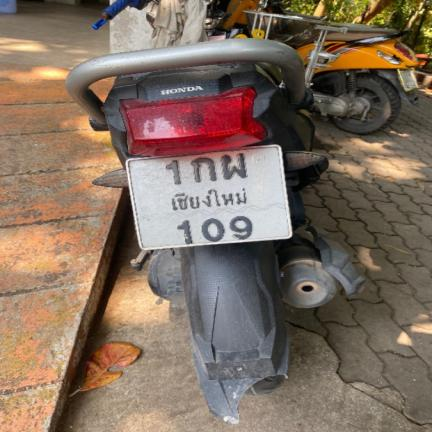0: (199, 217, 225, 242)
1: (171, 219, 196, 245), (161, 159, 185, 186)
9: (227, 215, 255, 239)
A01: (187, 156, 219, 183)
A28: (219, 151, 248, 180)
CMI: (167, 188, 250, 210)
